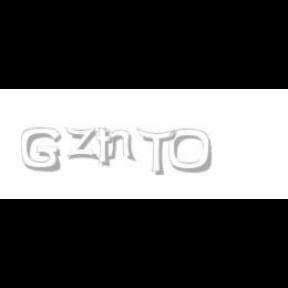G: (21, 128, 61, 172)
O: (168, 128, 214, 174)
T: (136, 128, 176, 176)
n: (103, 128, 137, 162)
t: (95, 128, 117, 168)
z: (65, 128, 101, 160)
